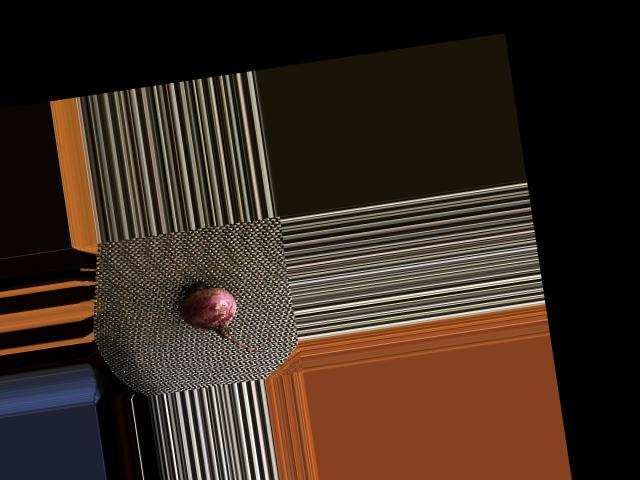beet: (175, 272, 268, 363)
